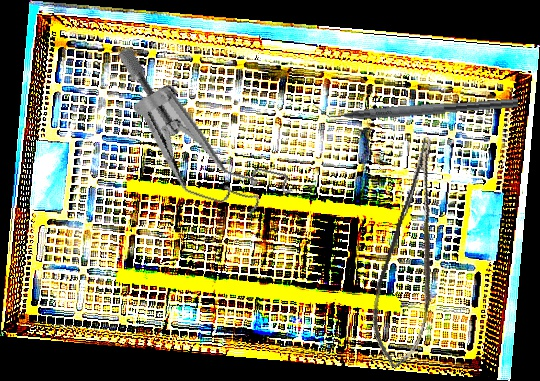Chopper: (312, 84, 519, 126)
Micro Scissor: (356, 134, 475, 375)
Speculum: (81, 44, 322, 229)
